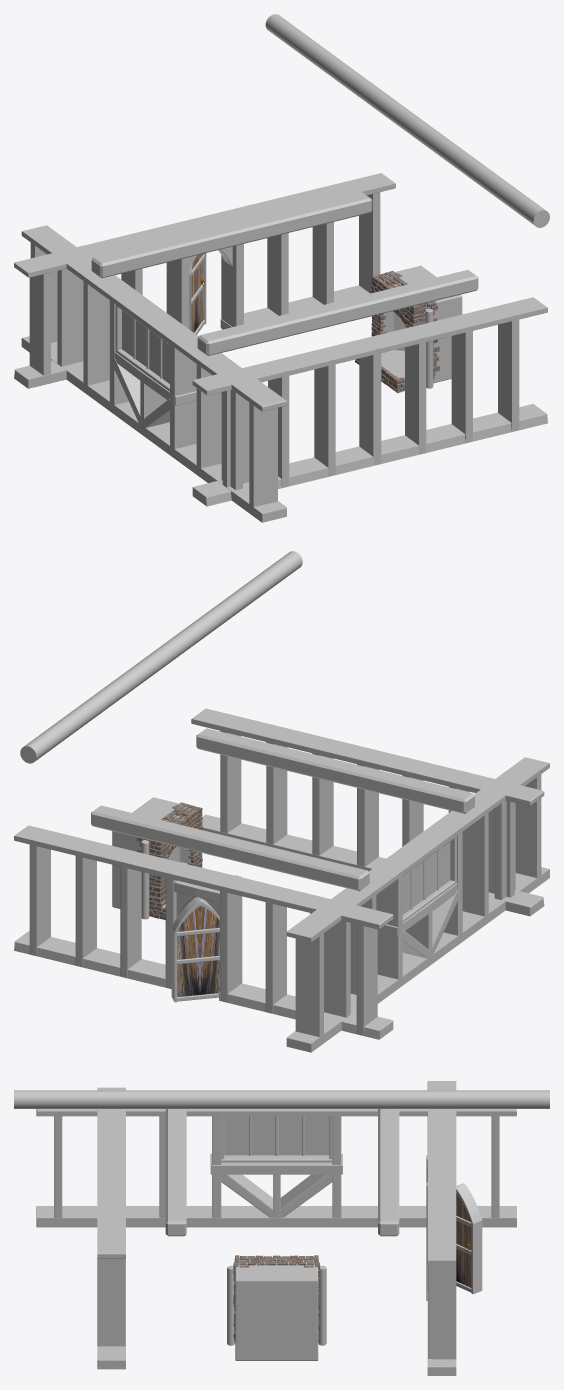
File: newHouseTest.FBX
3 views of the same model, one above another, from view 1: azimuth 30°, elevation 25°; view 2: azimuth 150°, elevation 25°; view 3: azimuth 270°, elevation 25° (orthographic).
Parts seen in each view (by area): view 1: Reglar_stående.004, Reglar_stående.006, HuvudBjälke, Reglar_liggande.006, Reglar_liggande.004, Reglar_stående.003, Reglar_liggande.003, liggangeTakBjälke, Spisfyllning.001, stones.002, Glas, Regerl_diagonal (+1 smaller); view 2: Reglar_stående.004, Reglar_stående.003, HuvudBjälke, Reglar_liggande.003, Reglar_liggande.004, Reglar_liggande.006, Reglar_stående.006, liggangeTakBjälke, dörr, Spisfyllning.001, stones.002, Glas (+3 smaller); view 3: Reglar_liggande.004, liggangeTakBjälke, Spisfyllning.001, HuvudBjälke, Reglar_liggande.003, Reglar_liggande.006, Reglar_stående.004, Glas, Reglar_stående.003, Reglar_stående.006, Regerl_diagonal, dörrKant (+5 smaller).
Boxes of the visible parts, x1,y1,x2,y2 form: Reglar_stående.004: [30, 232, 277, 514]; Reglar_stående.006: [221, 304, 519, 490]; HuvudBjälke: [91, 192, 478, 355]; Reglar_liggande.006: [192, 297, 547, 506]; Reglar_liggande.004: [21, 225, 286, 522]; Reglar_stående.003: [29, 179, 380, 375]; Reglar_liggande.003: [14, 173, 395, 388]; liggangeTakBjälke: [265, 14, 549, 227]; Spisfyllning.001: [356, 265, 462, 390]; stones.002: [355, 271, 439, 393]; Glas: [122, 310, 169, 383]; Regerl_diagonal: [113, 359, 170, 427]; Reglar_stående.004: [295, 764, 541, 1045]; Reglar_stående.003: [29, 831, 377, 1035]; HuvudBjälke: [91, 728, 474, 891]; Reglar_liggande.003: [14, 825, 393, 1039]; Reglar_liggande.004: [286, 757, 549, 1052]; Reglar_liggande.006: [191, 708, 544, 916]; Reglar_stående.006: [220, 718, 515, 899]; liggangeTakBjälke: [20, 551, 302, 763]; dörr: [177, 906, 219, 997]; Spisfyllning.001: [112, 797, 200, 918]; stones.002: [136, 802, 205, 920]; Glas: [402, 842, 450, 914]; Reglar_liggande.004: [36, 1109, 516, 1227]; liggangeTakBjälke: [14, 1090, 549, 1108]; Spisfyllning.001: [235, 1257, 318, 1360]; HuvudBjälke: [165, 1109, 399, 1236]; Reglar_liggande.003: [427, 1081, 456, 1375]; Reglar_liggande.006: [97, 1087, 125, 1369]; Reglar_stående.004: [54, 1109, 499, 1217]; Glas: [224, 1116, 329, 1155]; Reglar_stående.003: [426, 1089, 456, 1359]; Reglar_stående.006: [97, 1124, 125, 1346]; Regerl_diagonal: [221, 1174, 332, 1217]; dörrKant: [456, 1183, 482, 1293].
Bounding box in the file's own units: 314 × 208 × 396.
